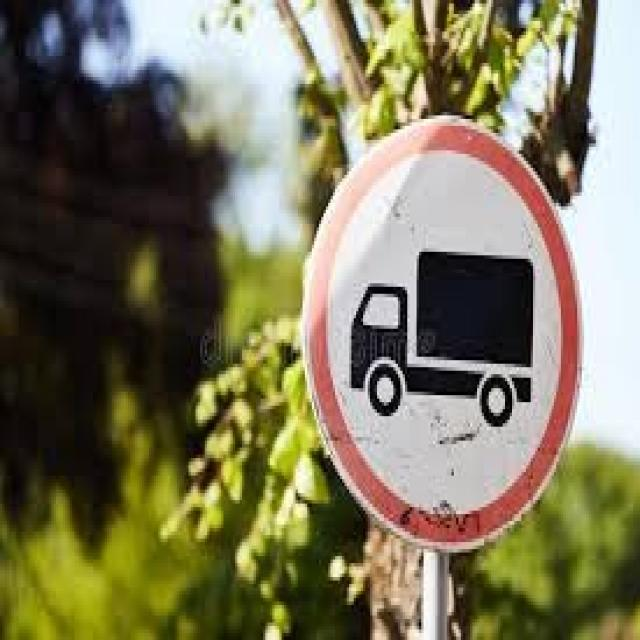do_not_enter: (295, 102, 599, 574)
